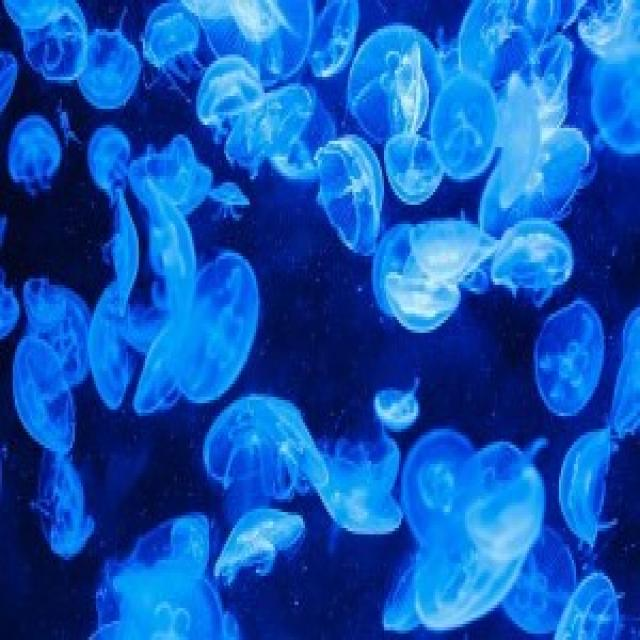Jellyfish: (178, 247, 264, 406), (199, 396, 326, 499), (5, 332, 84, 472), (206, 496, 307, 600), (433, 68, 499, 194), (535, 294, 600, 418), (318, 140, 386, 252), (558, 431, 618, 544), (318, 456, 404, 532), (498, 220, 582, 296), (76, 30, 148, 116), (188, 54, 268, 130), (6, 104, 65, 207), (386, 272, 462, 329), (382, 130, 439, 202), (366, 385, 428, 435)
